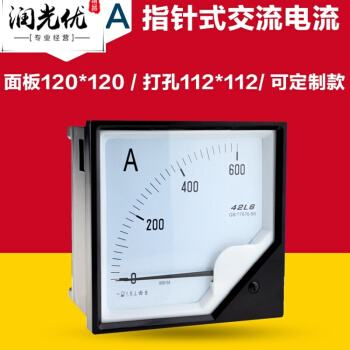pointer: (96, 128, 276, 326)
